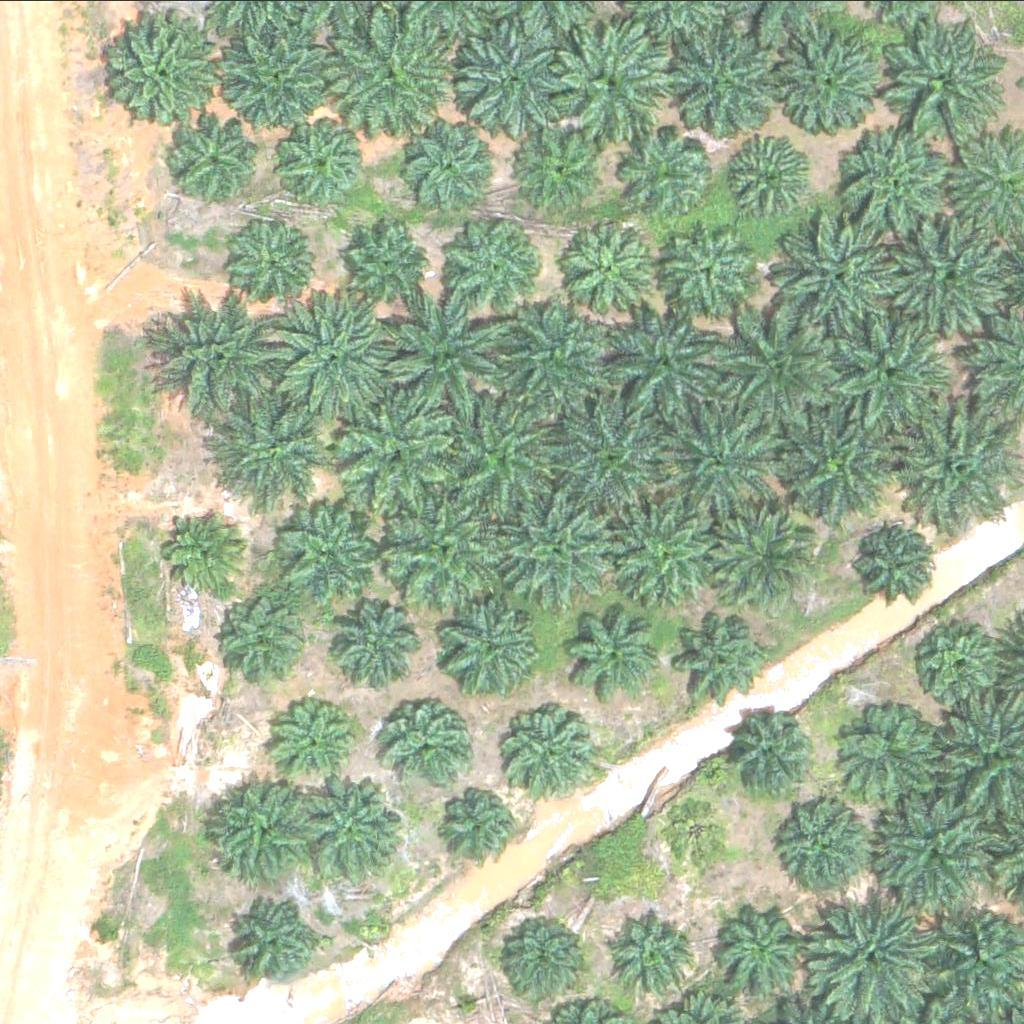Kelapa_Sawit: (217, 12, 343, 137), (446, 13, 572, 138), (551, 17, 677, 142), (884, 19, 1010, 144), (838, 112, 964, 237), (775, 203, 901, 328), (891, 218, 1017, 343), (600, 303, 726, 428), (150, 290, 276, 415), (271, 295, 397, 420), (383, 294, 509, 419), (498, 290, 624, 415), (206, 381, 332, 506), (331, 386, 457, 511), (434, 393, 560, 518), (547, 392, 673, 517), (655, 396, 781, 521), (893, 407, 1019, 532), (380, 484, 506, 609), (874, 795, 1000, 920), (328, 1, 453, 126), (826, 309, 951, 434), (714, 301, 839, 426), (103, 19, 217, 132), (675, 26, 788, 139), (778, 21, 891, 134), (777, 414, 890, 527), (842, 700, 955, 813), (704, 499, 817, 611), (597, 495, 710, 607), (496, 495, 609, 607), (448, 214, 549, 314), (558, 219, 659, 319), (658, 222, 759, 322), (278, 499, 379, 599), (559, 603, 660, 703), (666, 604, 767, 704), (302, 776, 403, 876), (209, 780, 310, 880), (704, 901, 805, 1001), (779, 798, 880, 898), (219, 212, 319, 312), (440, 598, 540, 698), (917, 620, 1005, 708), (617, 130, 705, 218), (398, 119, 486, 207), (219, 589, 307, 677), (274, 696, 362, 784), (387, 699, 475, 787), (510, 707, 598, 795), (234, 897, 322, 985), (721, 709, 810, 796), (434, 780, 522, 867), (721, 128, 809, 215), (516, 120, 604, 207), (275, 113, 363, 200), (176, 114, 264, 201), (348, 220, 436, 307), (162, 510, 250, 597), (338, 596, 426, 683), (604, 906, 692, 993), (499, 911, 587, 998), (657, 792, 733, 867), (860, 526, 935, 601)
